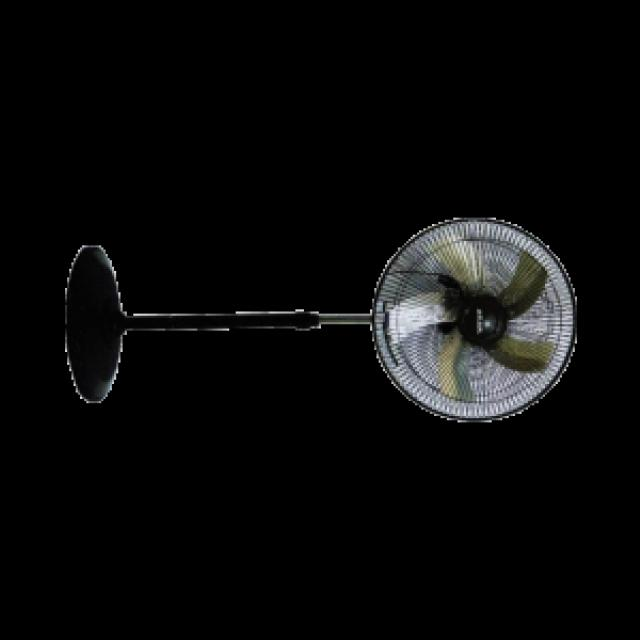fan: (66, 213, 578, 420)
